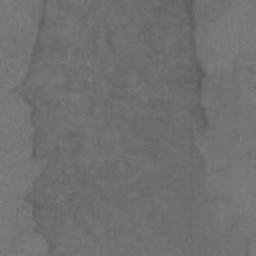Water spot: (9, 0, 256, 256)
